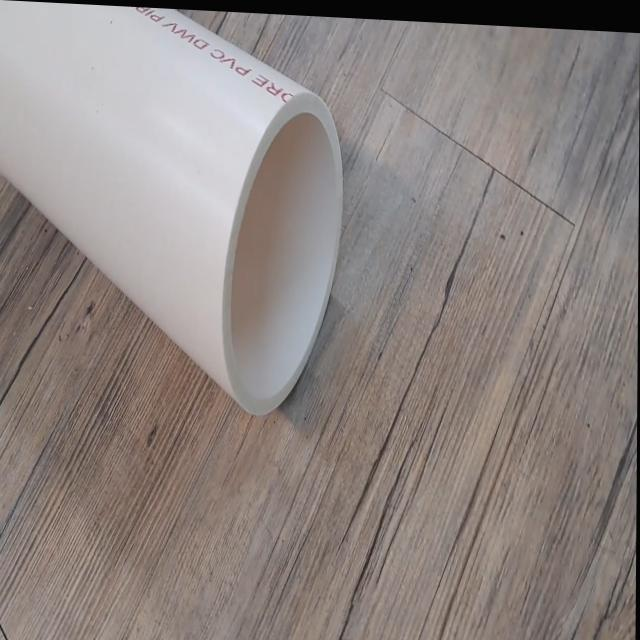CORAL: (0, 0, 418, 468)
